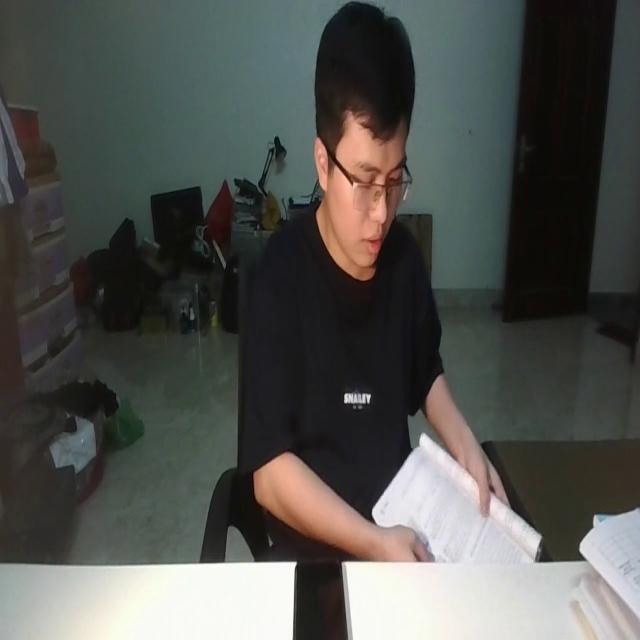book: (368, 426, 543, 564)
phone: (293, 555, 350, 640)
student: (229, 0, 511, 560)
